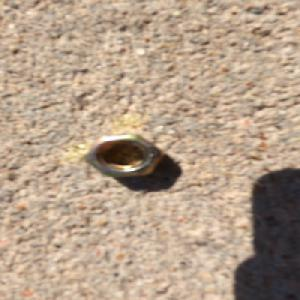Nut: (81, 131, 165, 180)
